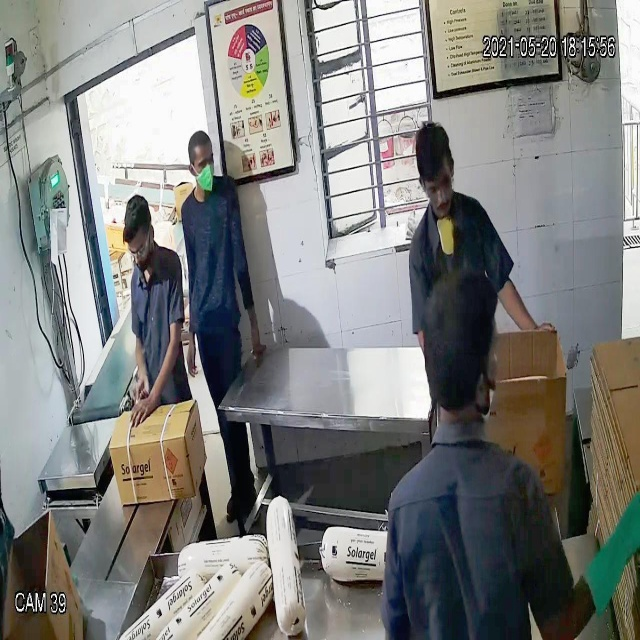Gafas: (417, 166, 458, 204), (123, 229, 156, 265)
